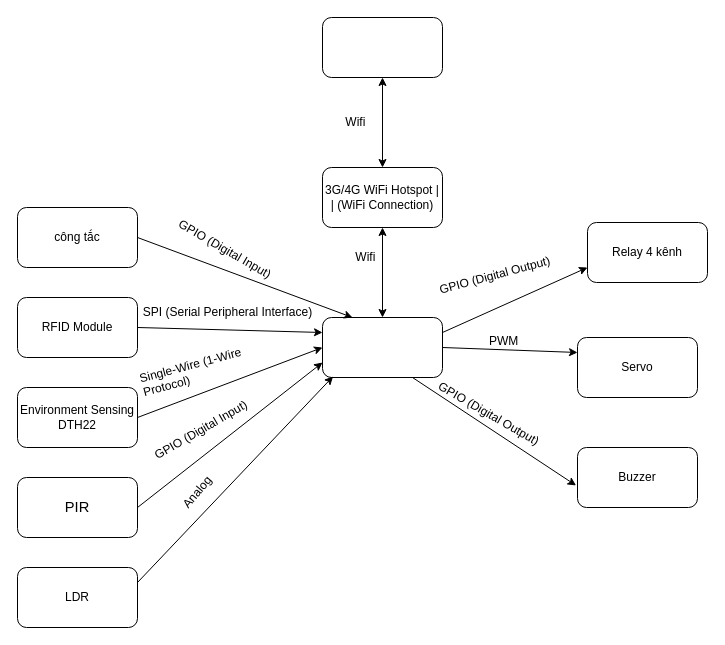
Some shapes in this 725 by 645 pixel diagram are drawn without their labels. Here are the shapes that lost their labels. From the top down, the centre of each, then its label:
At point 382,47: "Blynk Cloud | | (Remote Control & Monitoring)".
At point 382,347: "ESP32".
